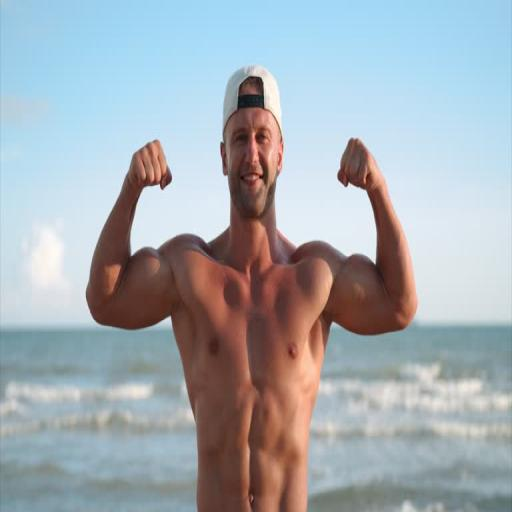Person: (64, 125, 454, 439)
no_gloves: (326, 178, 390, 224), (128, 180, 179, 232)
no_goggle: (219, 176, 277, 199)
none: (152, 233, 354, 411)
